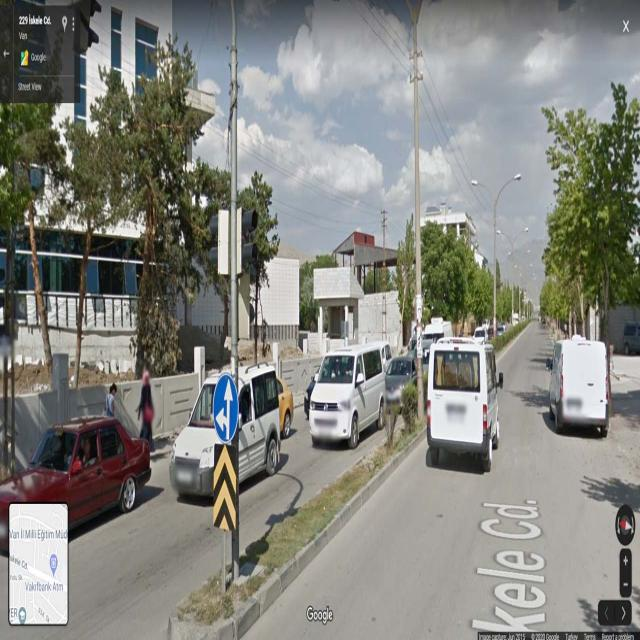ilerisol: (213, 374, 239, 439)
